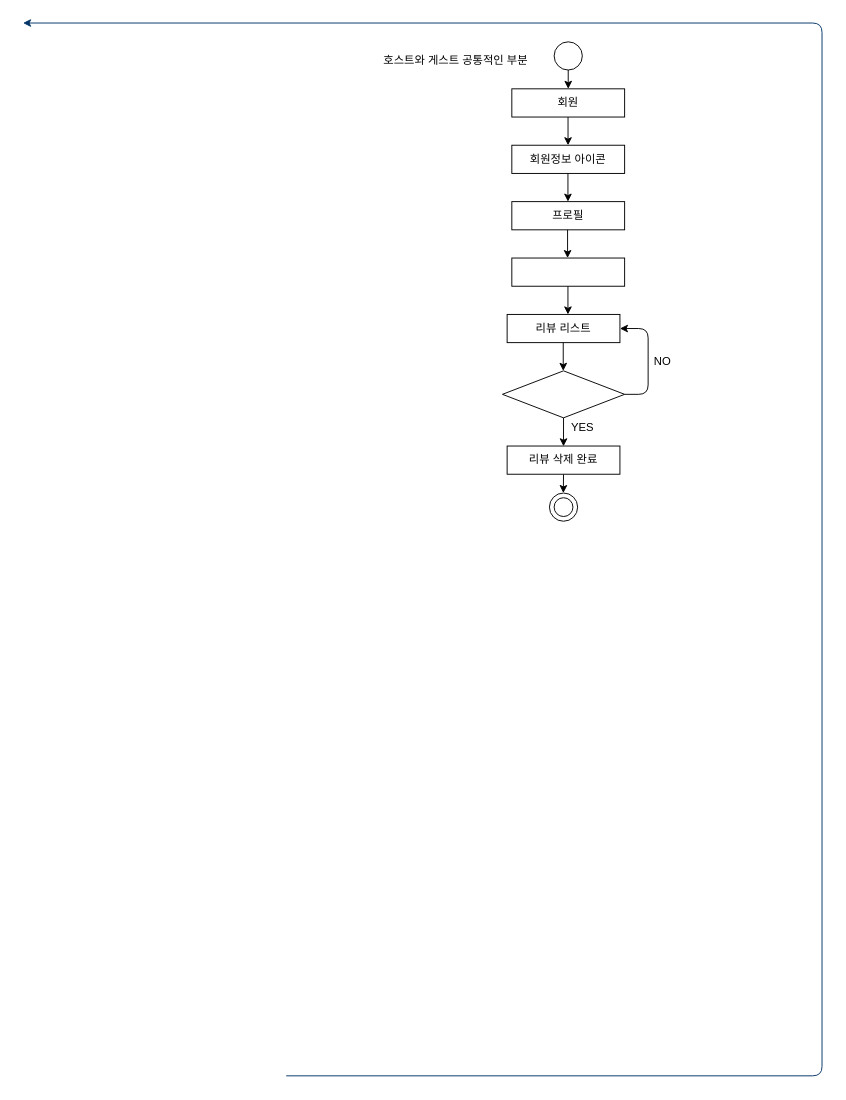
Image size: 846x1100. Some labels were removed from this diagram. Each missing label, with the box of its shape:
내가 작성한 리뷰: (511, 257, 625, 286)
삭제버튼: (501, 370, 625, 418)
